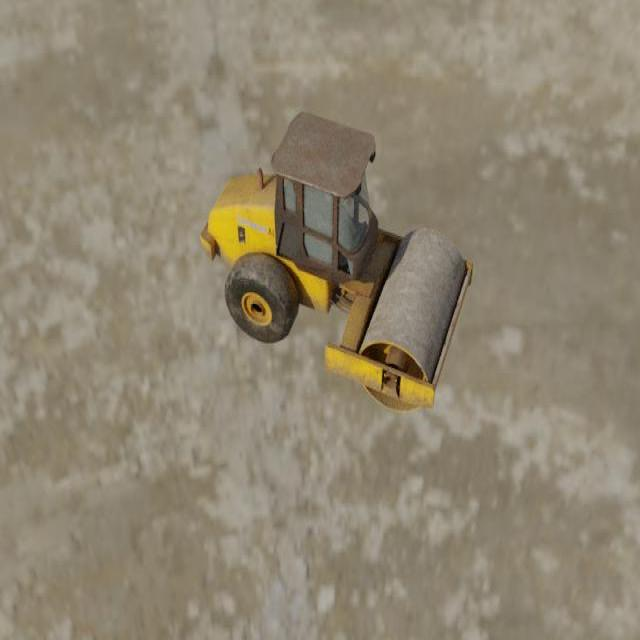Roller: (199, 111, 474, 412)
